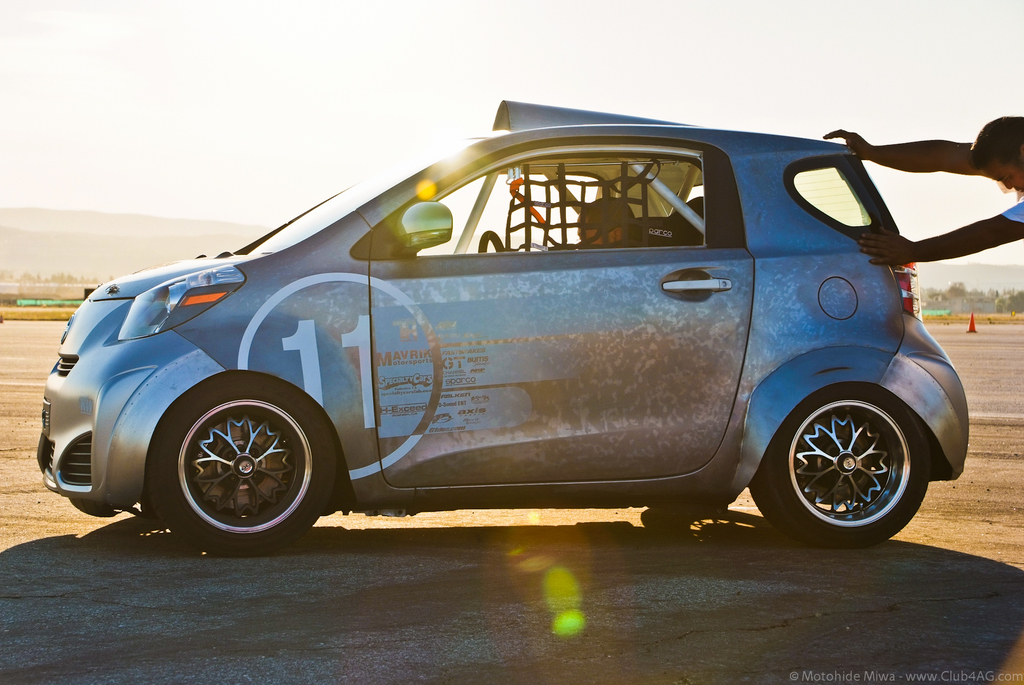Car: (42, 105, 986, 563)
